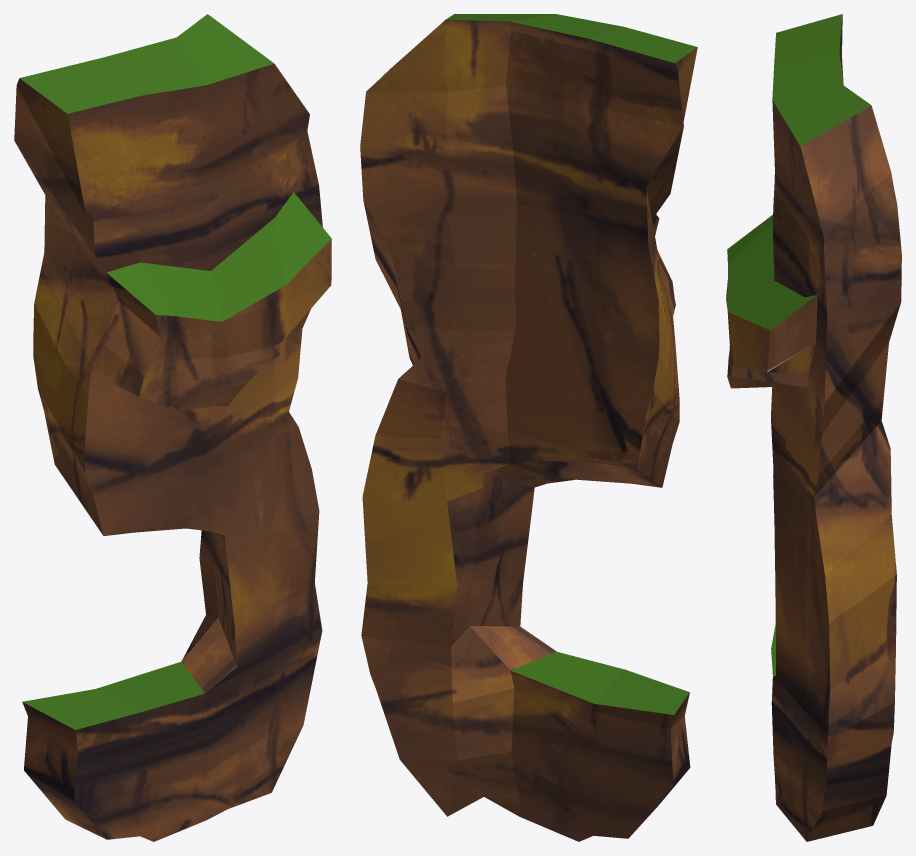
Rendered from sali31.obj.
3 views of the same model, side by side, from view 1: azimuth 30°, elevation 25°; view 2: azimuth 150°, elevation 25°; view 3: azimuth 270°, elevation 25° (orthographic). The views are drawn at different scales.
Visible parts, largest first — view 1: Plane.012_Plane.018; view 2: Plane.012_Plane.018; view 3: Plane.012_Plane.018.
Part boxes in pixels (x1=…): Plane.012_Plane.018: x1=14, y1=14, x2=331, y2=841; Plane.012_Plane.018: x1=360, y1=14, x2=697, y2=841; Plane.012_Plane.018: x1=726, y1=14, x2=901, y2=841.
Size of the model in its own units: 123 by 300 by 65.45.
1 material, 1 textured.
